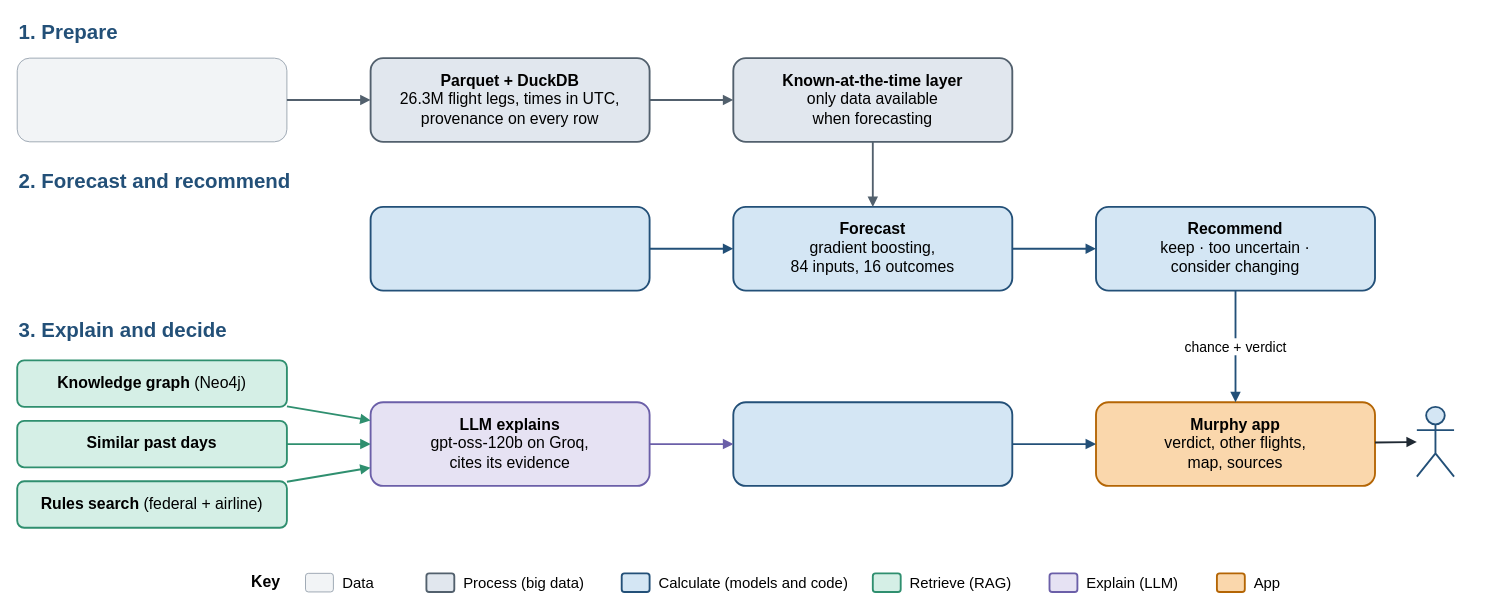
Image size: 1512x612. Some labels were removed from this diagram. Each missing label, with the box of its shape:
Code checks the answer no number that isn't in the evidence: (732, 401, 1013, 486)
Data sources BTS flights · IEM weather DB1B fares · airline rules: (16, 57, 287, 142)
Network Louvain communities + GCN: (369, 206, 650, 291)
Traveler decides; confirms or corrects: (1415, 405, 1455, 477)
